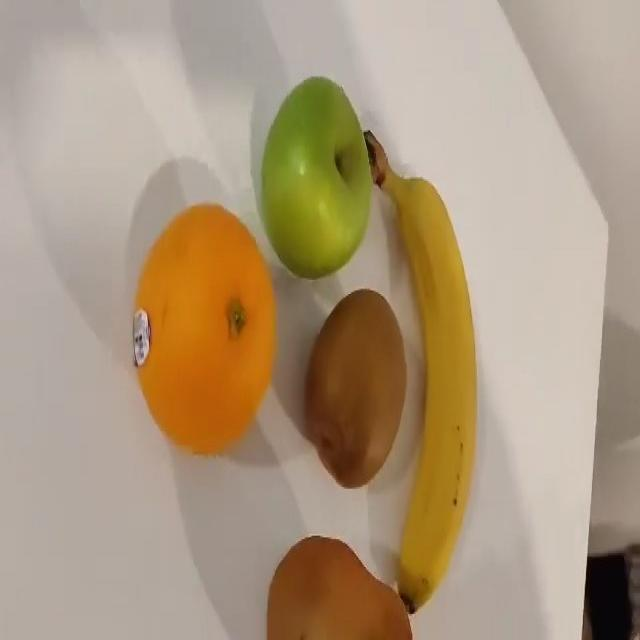Apple: (259, 75, 372, 279)
Banana: (338, 111, 494, 634)
Orange: (131, 201, 277, 455)
